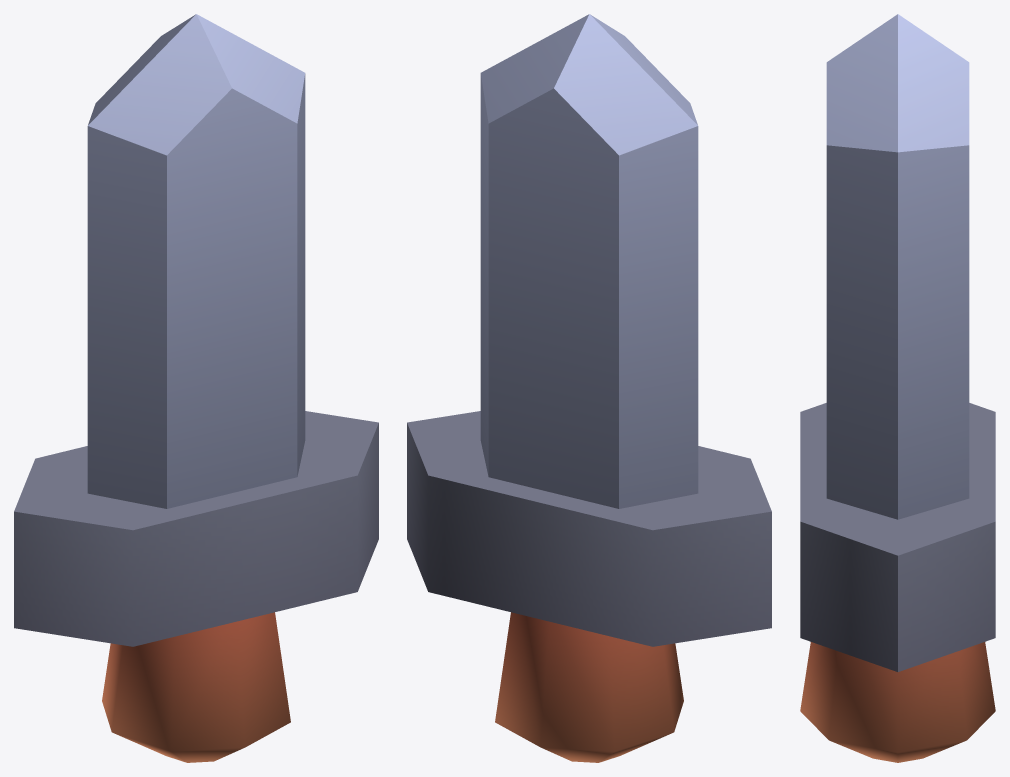
Rendered from weapon-sword.glb.
3 renders of one model, left to right at view 1: azimuth 30°, elevation 25°; view 2: azimuth 150°, elevation 25°; view 3: azimuth 270°, elevation 25°, orthographic.
Parts seen in each view (by area): view 1: weapon-sword; view 2: weapon-sword; view 3: weapon-sword.
Boxes of the visible parts, x1,y1,x2,y2 form: weapon-sword: (14, 14, 378, 762); weapon-sword: (407, 14, 771, 762); weapon-sword: (800, 14, 995, 762).
Bounding box in the file's own units: 0.233 × 0.448 × 0.1082.
Materials: 1 (1 with a texture image).
